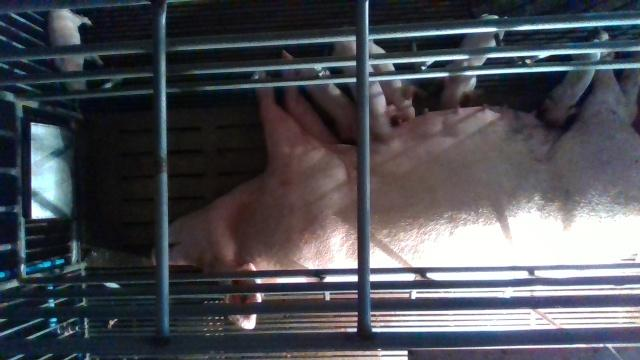piglet: (335, 24, 395, 139), (438, 12, 508, 110), (542, 37, 602, 128), (298, 65, 358, 142), (46, 8, 102, 88), (370, 42, 418, 122)
sow-sleep-lactate: (169, 49, 640, 330)
